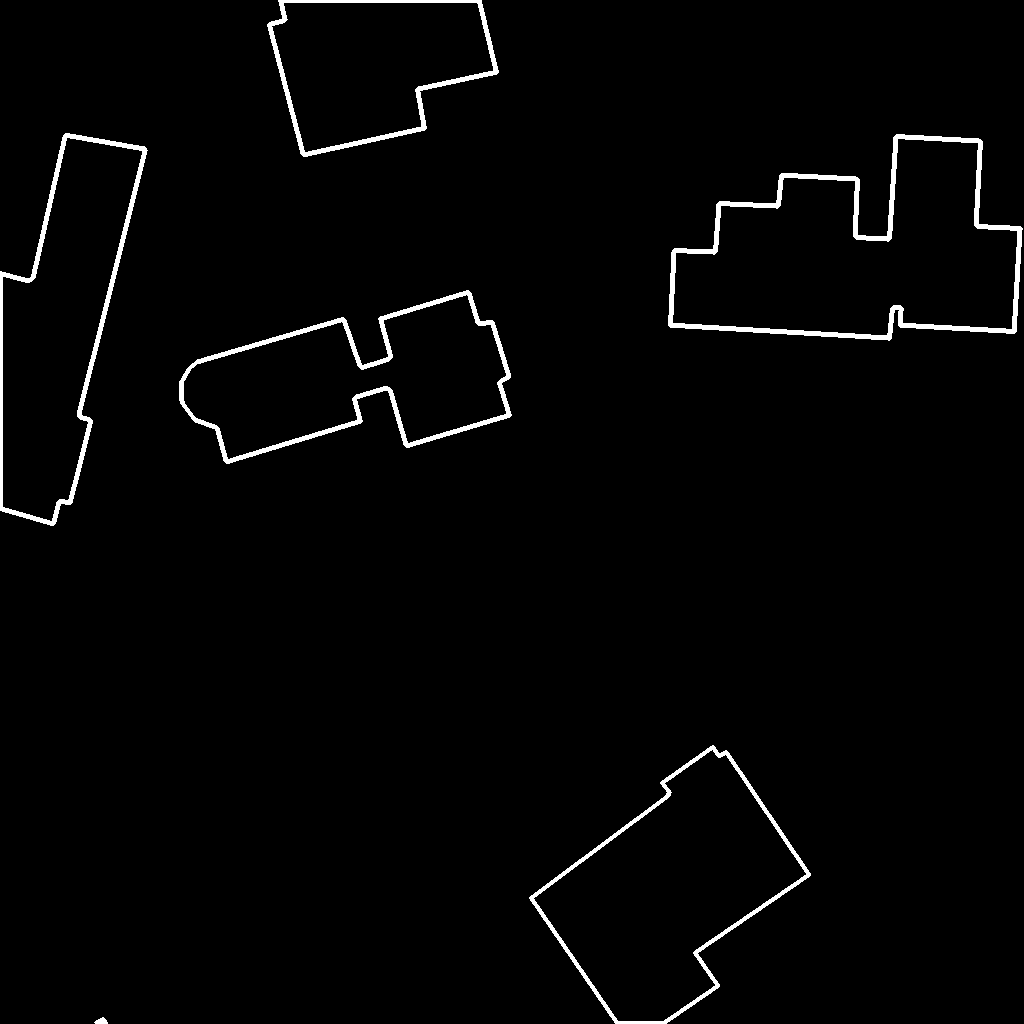building: (531, 747, 810, 1024), (670, 136, 1021, 339), (0, 135, 146, 525), (181, 292, 511, 463), (269, 0, 498, 156), (95, 1019, 107, 1024)
